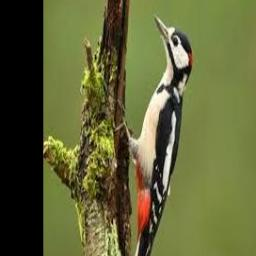Woodpecker: (113, 13, 192, 256)
